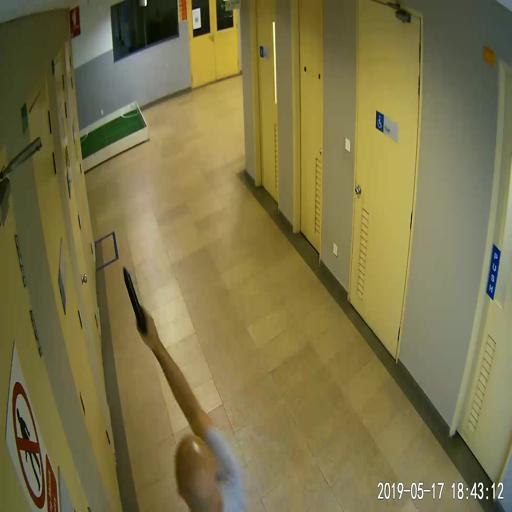pistol: (123, 267, 152, 341)
